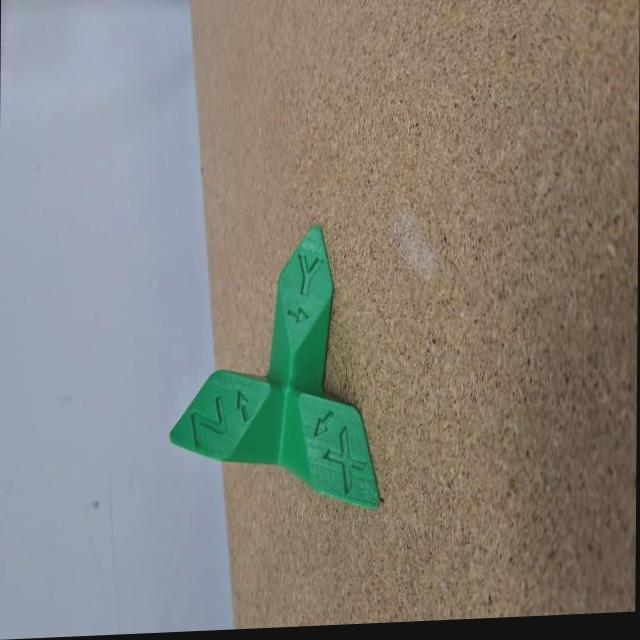eje: (162, 214, 385, 526)
